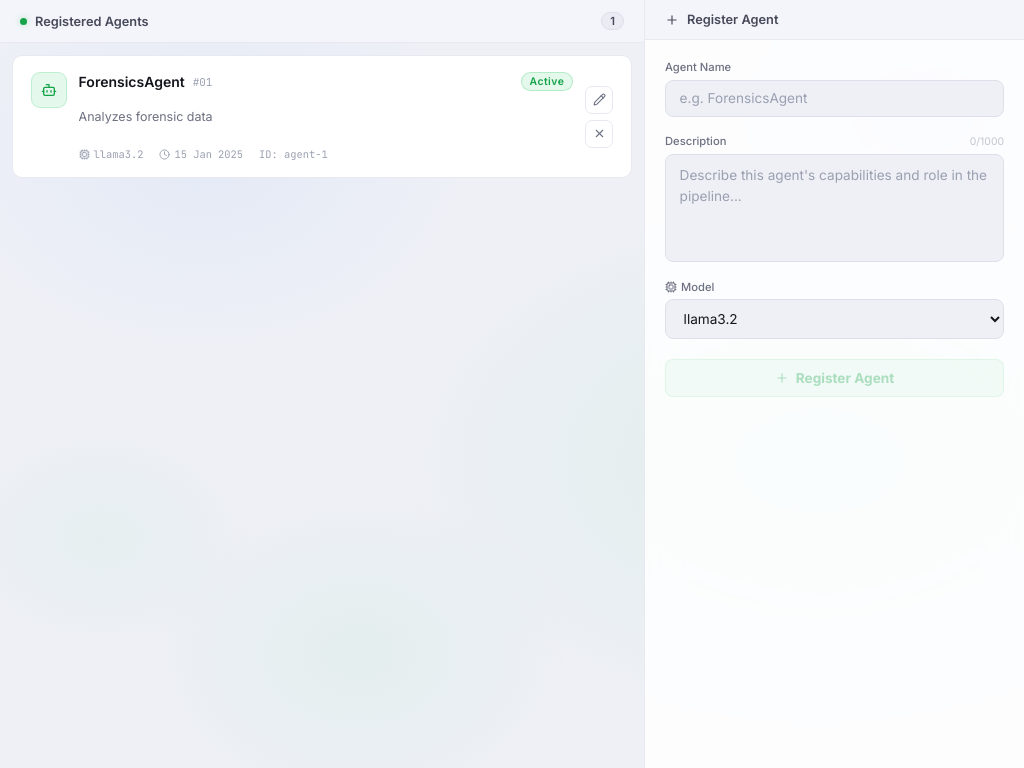
Agents edit modal › closes the edit modal when X is clicked
What coordinates should you click on to do the following:
click the button titled "Edit agent"
I would click on:
 (599, 100)
Its box is [585,86,613,114].
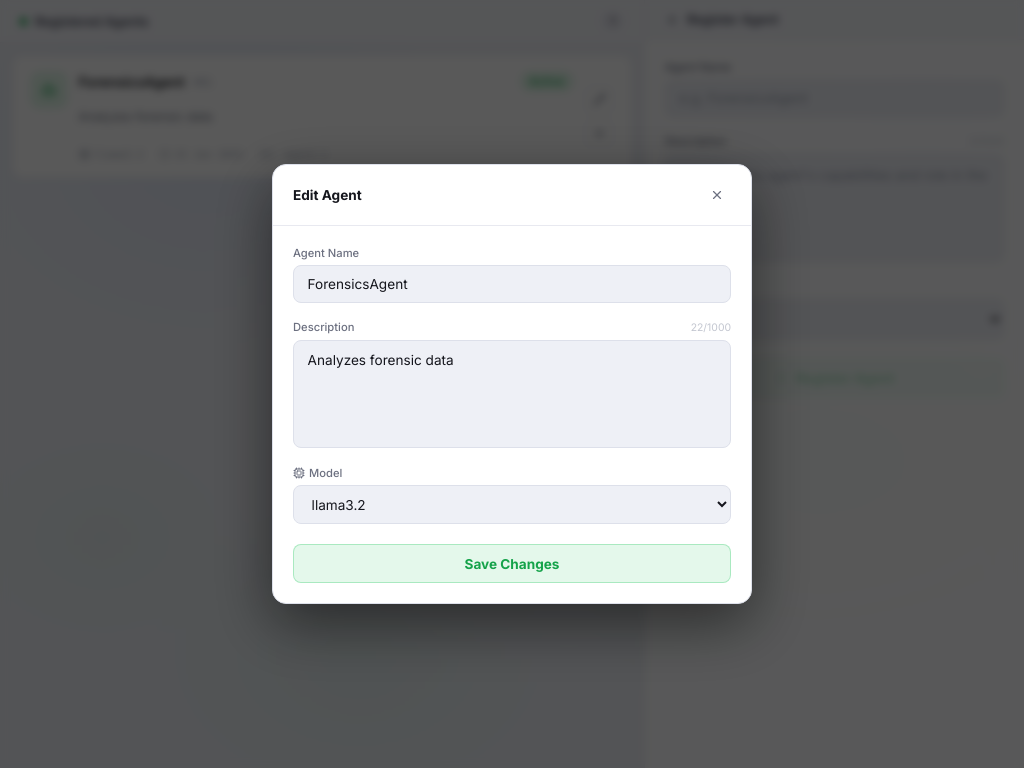
Result: the text "Edit Agent" is shown at [293,187,362,203]
What coordinates should you click on to do the following:
click the element showing "Edit Agent Agent Name Description 22/1000 Model Save Changes"
I would click on:
 (61, 384)
Its box is [0,0,1023,767].
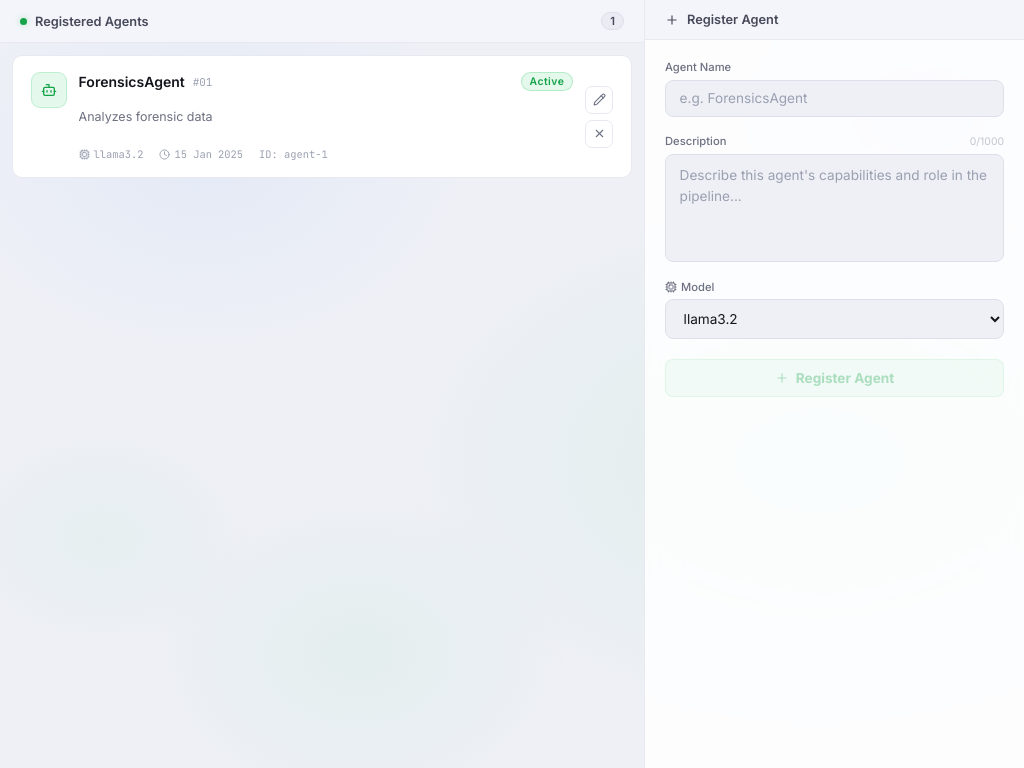
Result: the text "Edit Agent" is gone
